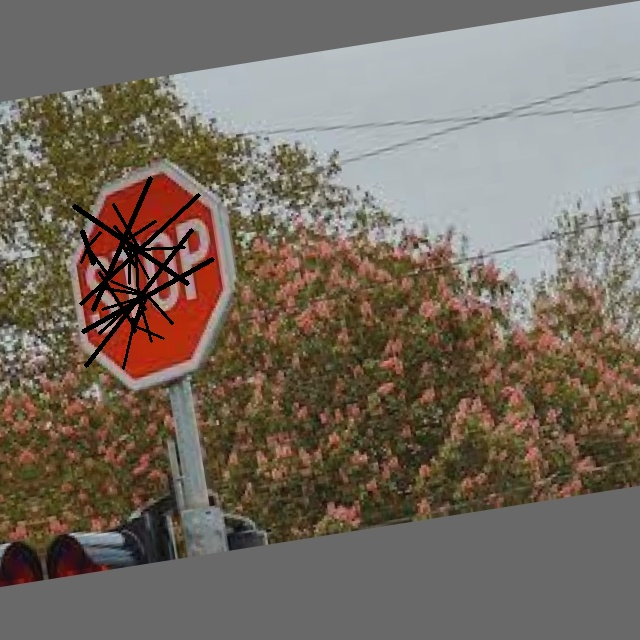Stop: (60, 158, 248, 392)
